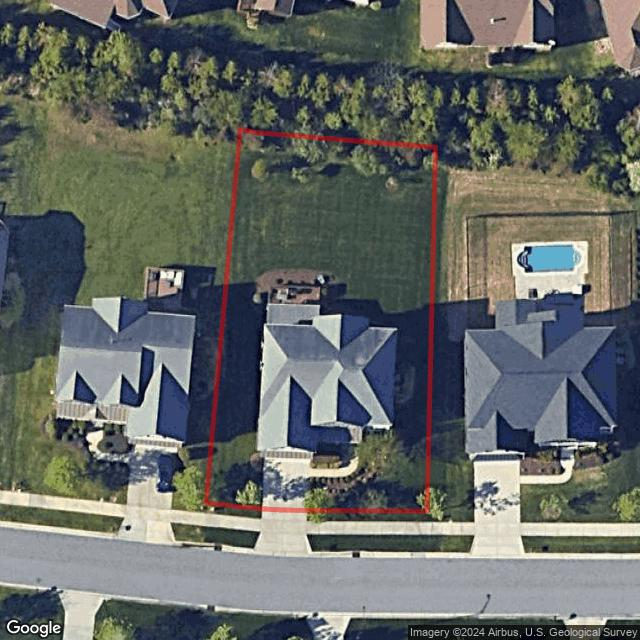Driveway: (262, 457, 311, 510)
Extra-Driveway: (252, 508, 314, 557)
Extra-Lawn: (308, 534, 433, 552), (194, 525, 260, 549), (307, 510, 430, 522), (203, 504, 262, 518)
Extra-Sidewalk: (307, 521, 431, 535), (199, 513, 261, 531)
House: (256, 314, 398, 452), (289, 376, 353, 456)
Lawn: (207, 130, 435, 512)
Other: (240, 129, 435, 193), (308, 433, 388, 496), (254, 270, 335, 326), (312, 443, 355, 468), (393, 362, 415, 404)
Sidewalk: (309, 443, 360, 478)
